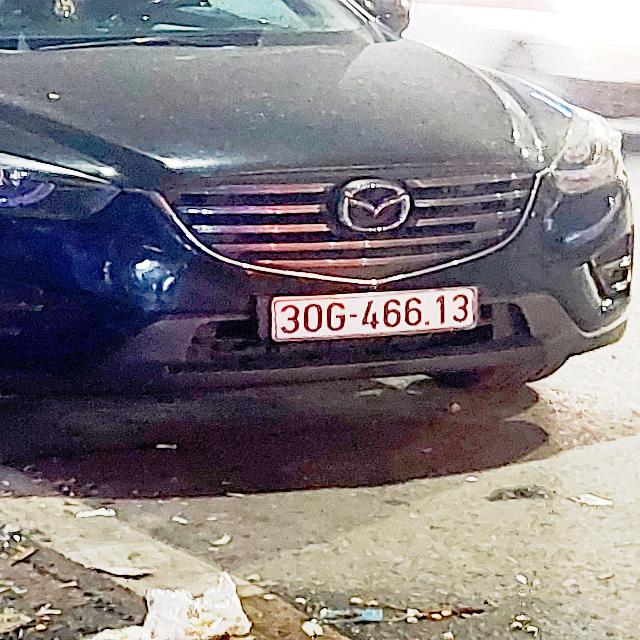license_plate: (275, 289, 477, 340)
